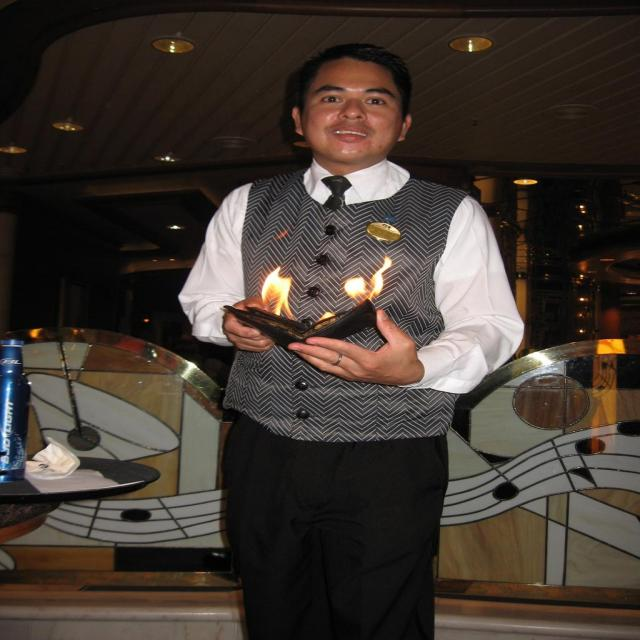nomask: (302, 52, 404, 159)
